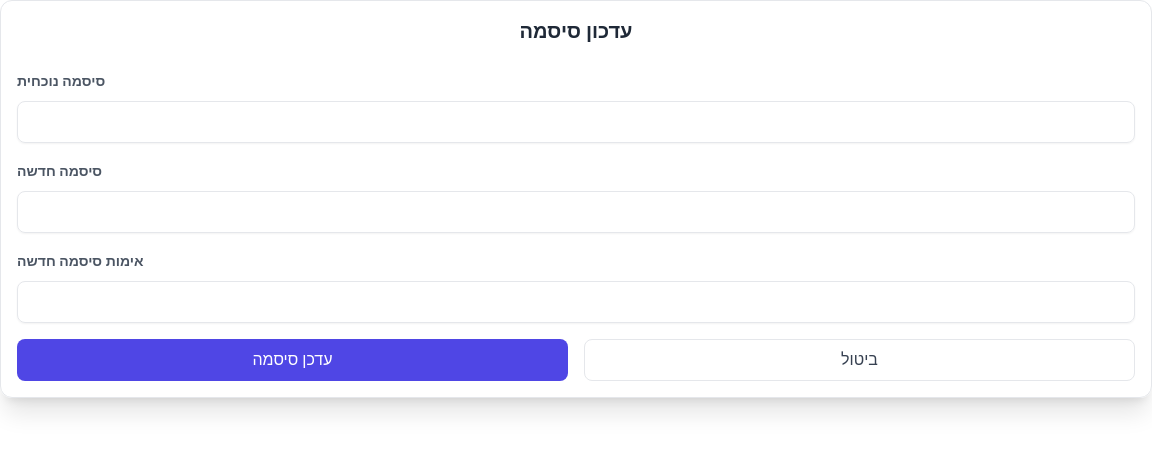
Test case: UpdatePasswordForm › validates password match
In the password field labelled "סיסמה נוכחית": [576, 122] box x1=17 y1=101 x2=1135 y2=143, type "CurrentPass123"
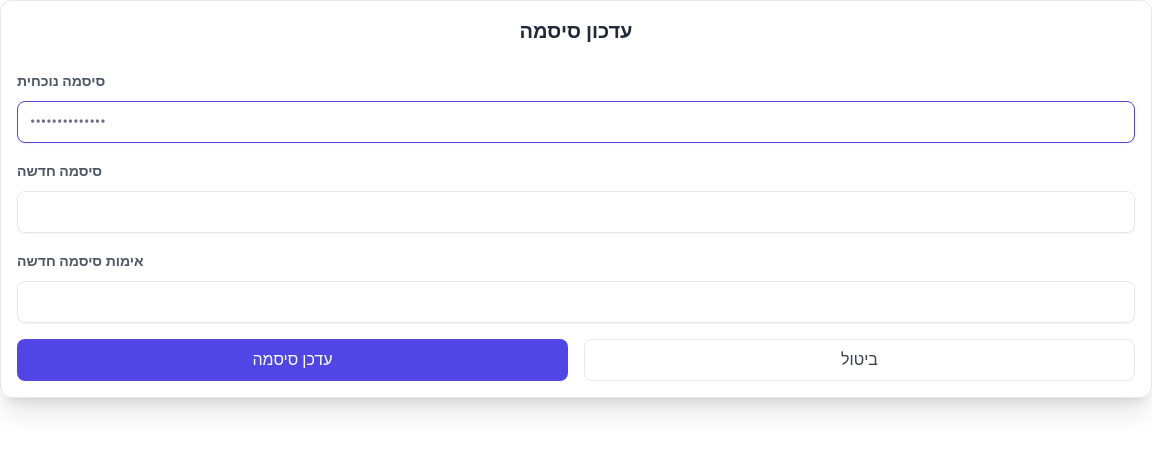
In the password field labelled "סיסמה חדשה": [576, 212] box x1=17 y1=191 x2=1135 y2=233, type "NewPassword123"
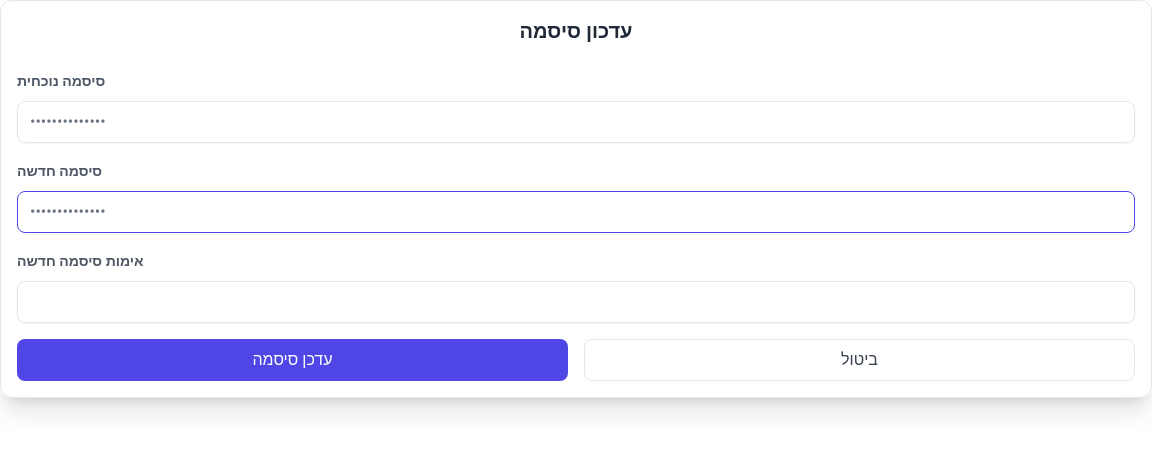
In the password field labelled "אימות סיסמה חדשה": [576, 302] box x1=17 y1=281 x2=1135 y2=323, type "DifferentPass123"
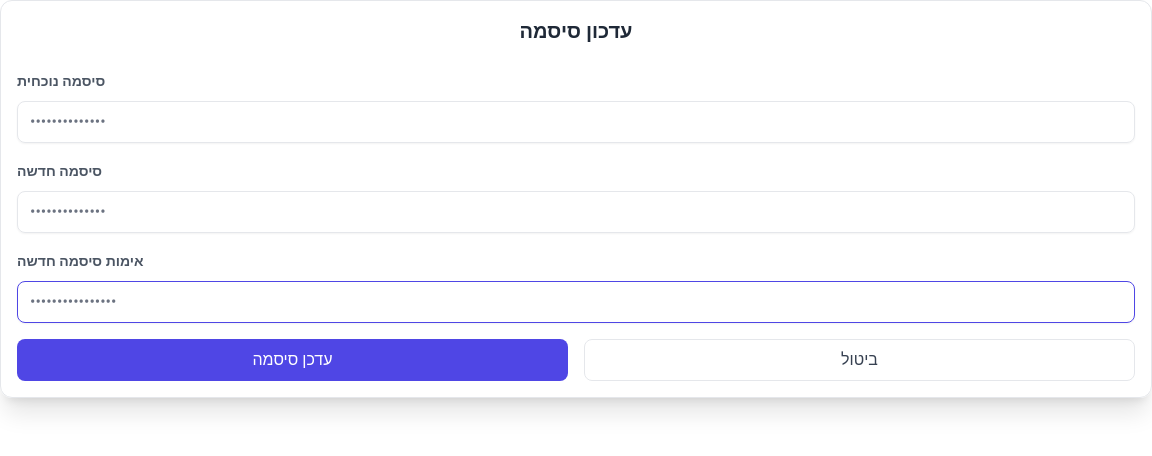
Click the button "עדכן סיסמה": [292, 360] box x1=17 y1=339 x2=568 y2=381
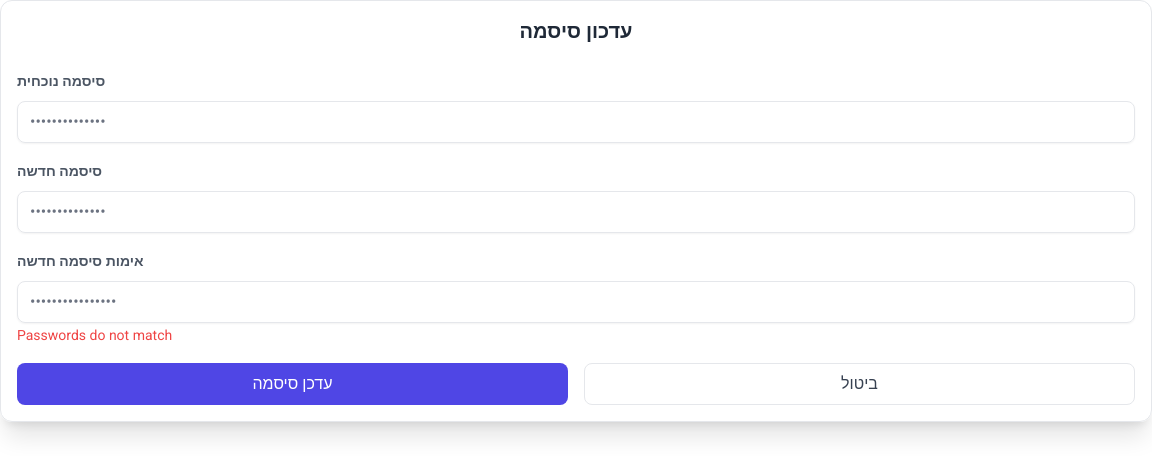
Expected: the text "Passwords do not match" is shown, x1=17 y1=327 x2=172 y2=343
